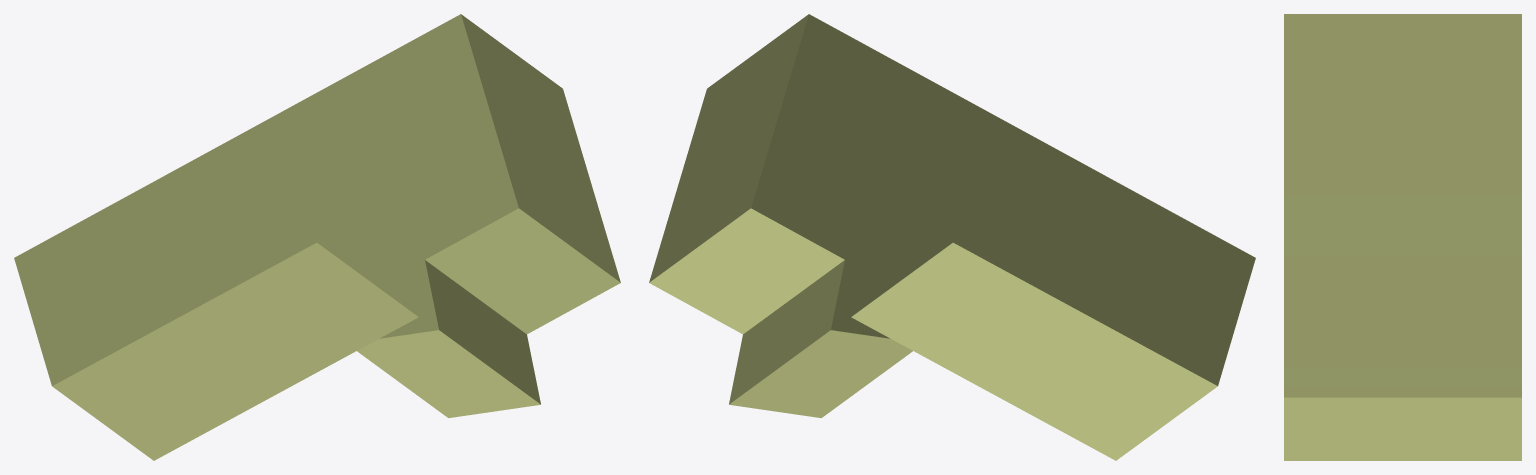
3 renders of one model, left to right at view 1: azimuth 30°, elevation 25°; view 2: azimuth 150°, elevation 25°; view 3: azimuth 270°, elevation 25°, orthographic. The views are drawn at different scales.
Visible parts, largest first — view 1: 0_1_0_2_1_3_0_3_2_0; view 2: 0_1_0_2_1_3_0_3_2_0; view 3: 0_1_0_2_1_3_0_3_2_0.
Boxes of the visible parts, x1,y1,x2,y2 form: 0_1_0_2_1_3_0_3_2_0: (14, 14, 620, 460); 0_1_0_2_1_3_0_3_2_0: (649, 14, 1255, 460); 0_1_0_2_1_3_0_3_2_0: (1284, 14, 1521, 460).
Bounding box in the file's own units: 25.72 × 15.13 × 9.
